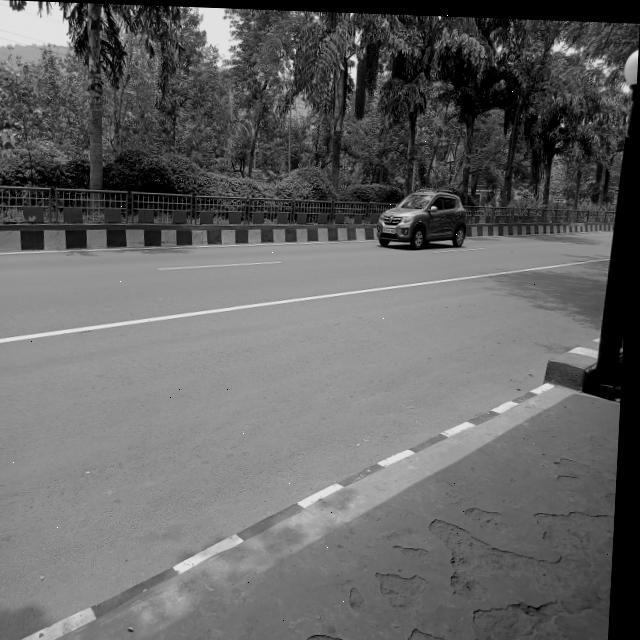car: (373, 167, 481, 251)
